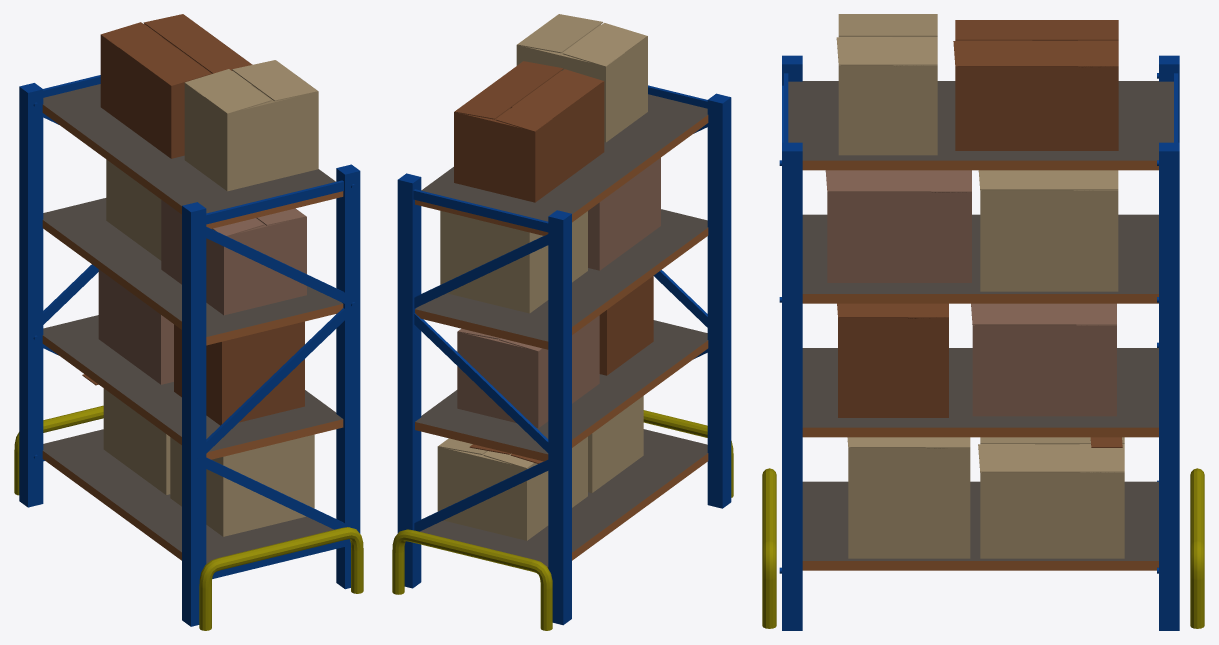
The model's file is Petite etagere 1.fbx.
The picture shows the model from 3 angles, left to right: view 1: azimuth 30°, elevation 25°; view 2: azimuth 150°, elevation 25°; view 3: azimuth 270°, elevation 25°; orthographic projection. The views are drawn at different scales.
Visible parts, largest first — view 1: petite_etagere_1; view 2: petite_etagere_1; view 3: petite_etagere_1.
Part boxes in pixels (bbox=[...]): petite_etagere_1: bbox=[14, 14, 363, 630]; petite_etagere_1: bbox=[392, 14, 733, 630]; petite_etagere_1: bbox=[762, 14, 1204, 630].
Size of the model in its own units: 1.41 by 3.84 by 2.76.
